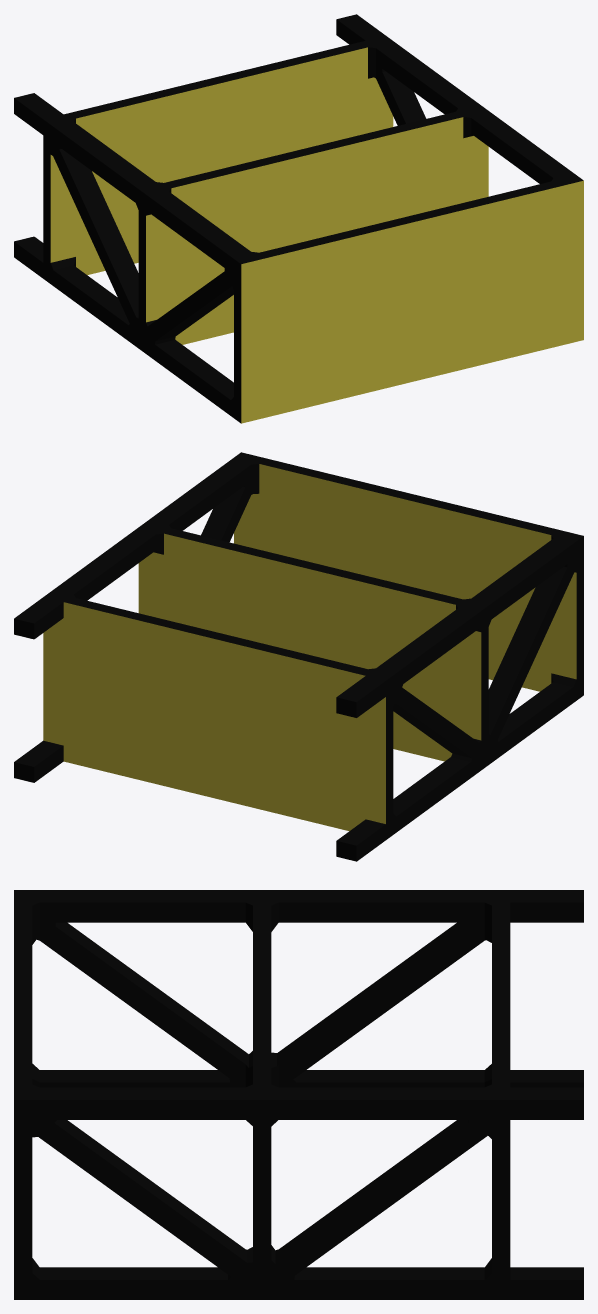
The model's file is high_priority_tray_shelf.gltf.
3 renders of one model, top to bottom at view 1: azimuth 30°, elevation 25°; view 2: azimuth 150°, elevation 25°; view 3: azimuth 270°, elevation 25°, orthographic. The views are drawn at different scales.
Parts seen in each view (by area): view 1: high_priority_tray_shelf; view 2: high_priority_tray_shelf; view 3: high_priority_tray_shelf.
Boxes of the visible parts, x1,y1,x2,y2 form: high_priority_tray_shelf: (14,14,583,423); high_priority_tray_shelf: (14,452,583,861); high_priority_tray_shelf: (14,890,583,1299).
Bounding box in the file's own units: 0.675 × 0.3 × 0.775.
